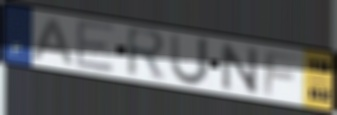A: (29, 16, 77, 67)
E: (74, 17, 117, 75)
F: (262, 49, 304, 98)
N: (218, 40, 260, 96)
R: (125, 24, 170, 84)
U: (168, 31, 212, 88)
